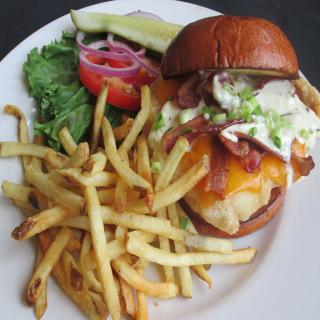French fries: (20, 76, 269, 312)
Hamburger: (141, 16, 320, 239)
